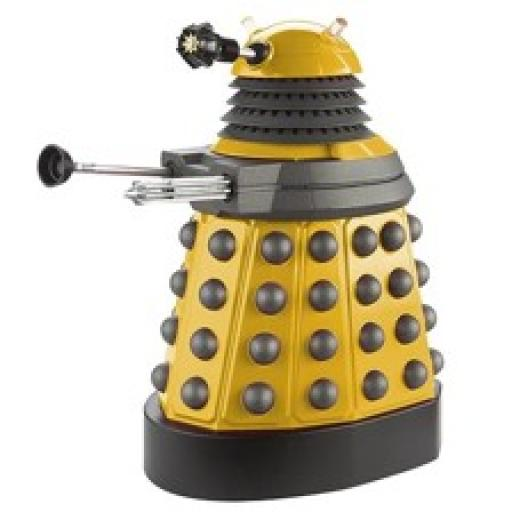dalek: (19, 11, 450, 499)
